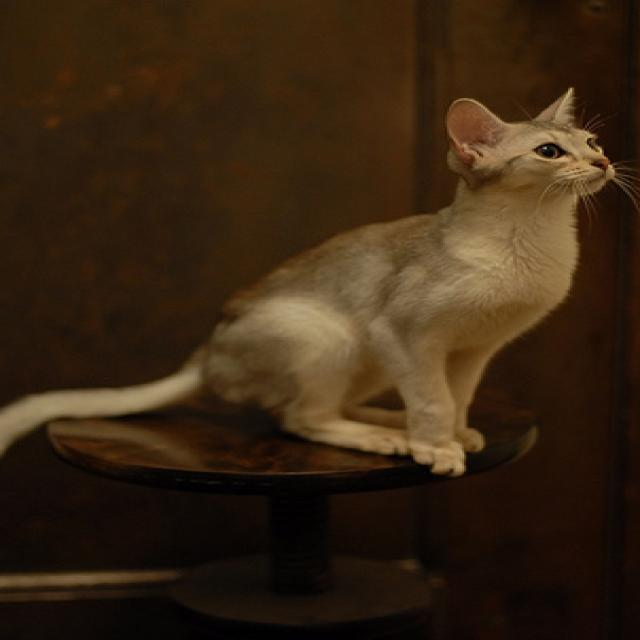Abyssinian: (0, 81, 632, 499)
